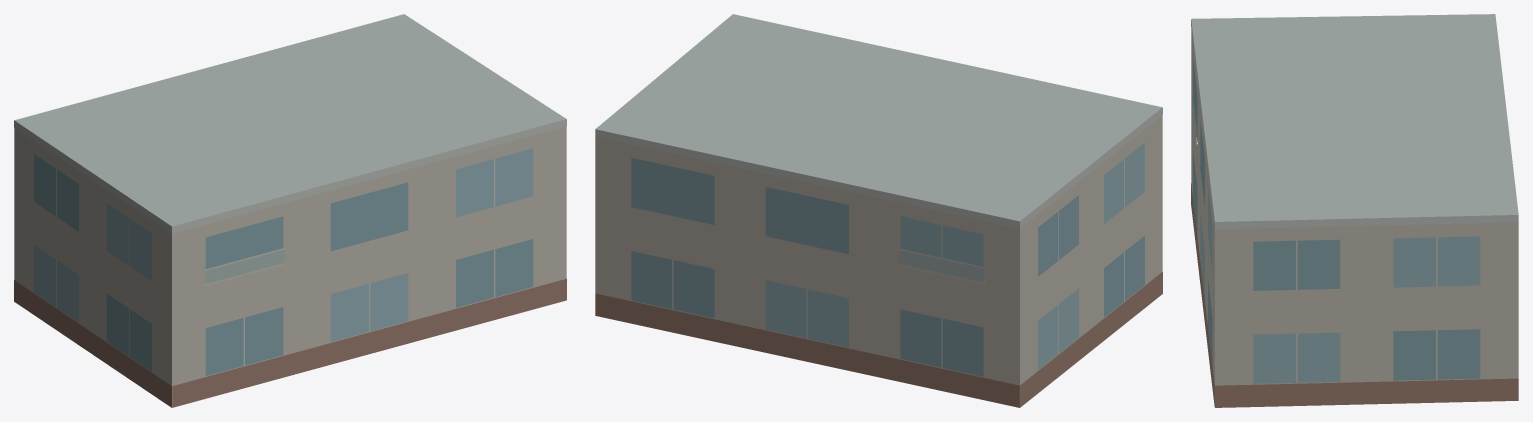
Rendered from survey-upis-32699057.glb.
The picture shows the model from 3 angles, left to right: view 1: azimuth 30°, elevation 25°; view 2: azimuth 150°, elevation 25°; view 3: azimuth 270°, elevation 25°; orthographic projection. The views are drawn at different scales.
Visible parts, largest first — view 1: survey-upis-32699057.tmp; view 2: survey-upis-32699057.tmp; view 3: survey-upis-32699057.tmp.
Boxes of the visible parts, x1,y1,x2,y2 form: survey-upis-32699057.tmp: (14, 14, 566, 407); survey-upis-32699057.tmp: (595, 14, 1162, 407); survey-upis-32699057.tmp: (1191, 14, 1518, 407).
Bounding box in the file's own units: 14.65 × 6.1 × 9.75.
